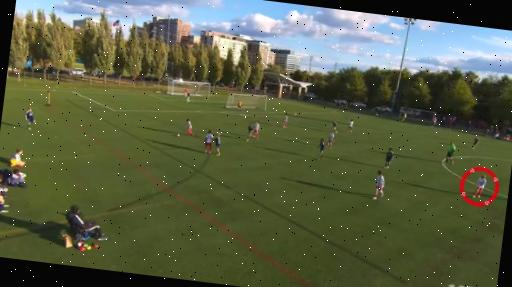highlight_overlay: (457, 163, 502, 210)
